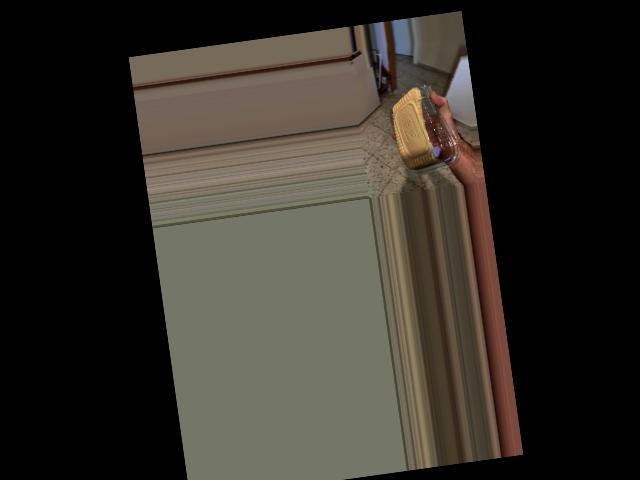cheese: (398, 102, 446, 181)
